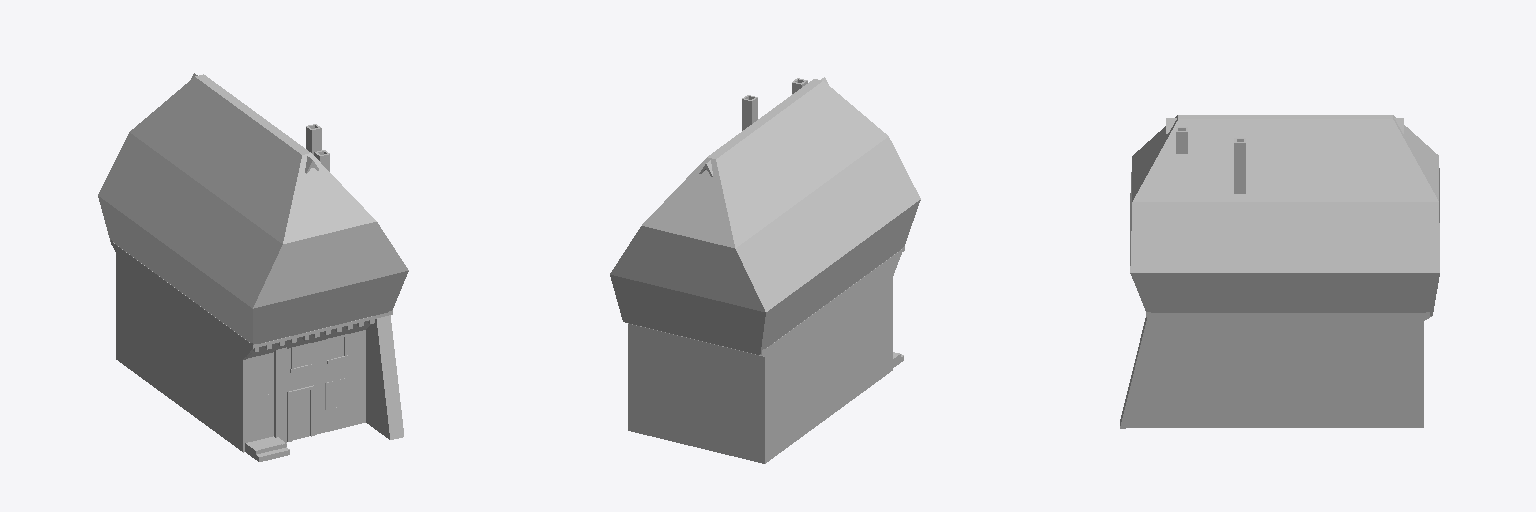
Rendered from mediaeval house.obj.
3 renders of one model, left to right at view 1: azimuth 30°, elevation 25°; view 2: azimuth 150°, elevation 25°; view 3: azimuth 270°, elevation 25°, orthographic.
Parts seen in each view (by area): view 1: medium_DH_1_Box_medium_h_1_Box; view 2: medium_DH_1_Box_medium_h_1_Box; view 3: medium_DH_1_Box_medium_h_1_Box.
Boxes of the visible parts, x1=… form: medium_DH_1_Box_medium_h_1_Box: x1=98, y1=74, x2=408, y2=461; medium_DH_1_Box_medium_h_1_Box: x1=610, y1=79, x2=920, y2=463; medium_DH_1_Box_medium_h_1_Box: x1=1120, y1=115, x2=1439, y2=428.
Bounding box in the file's own units: 3.84 × 6.54 × 6.83.